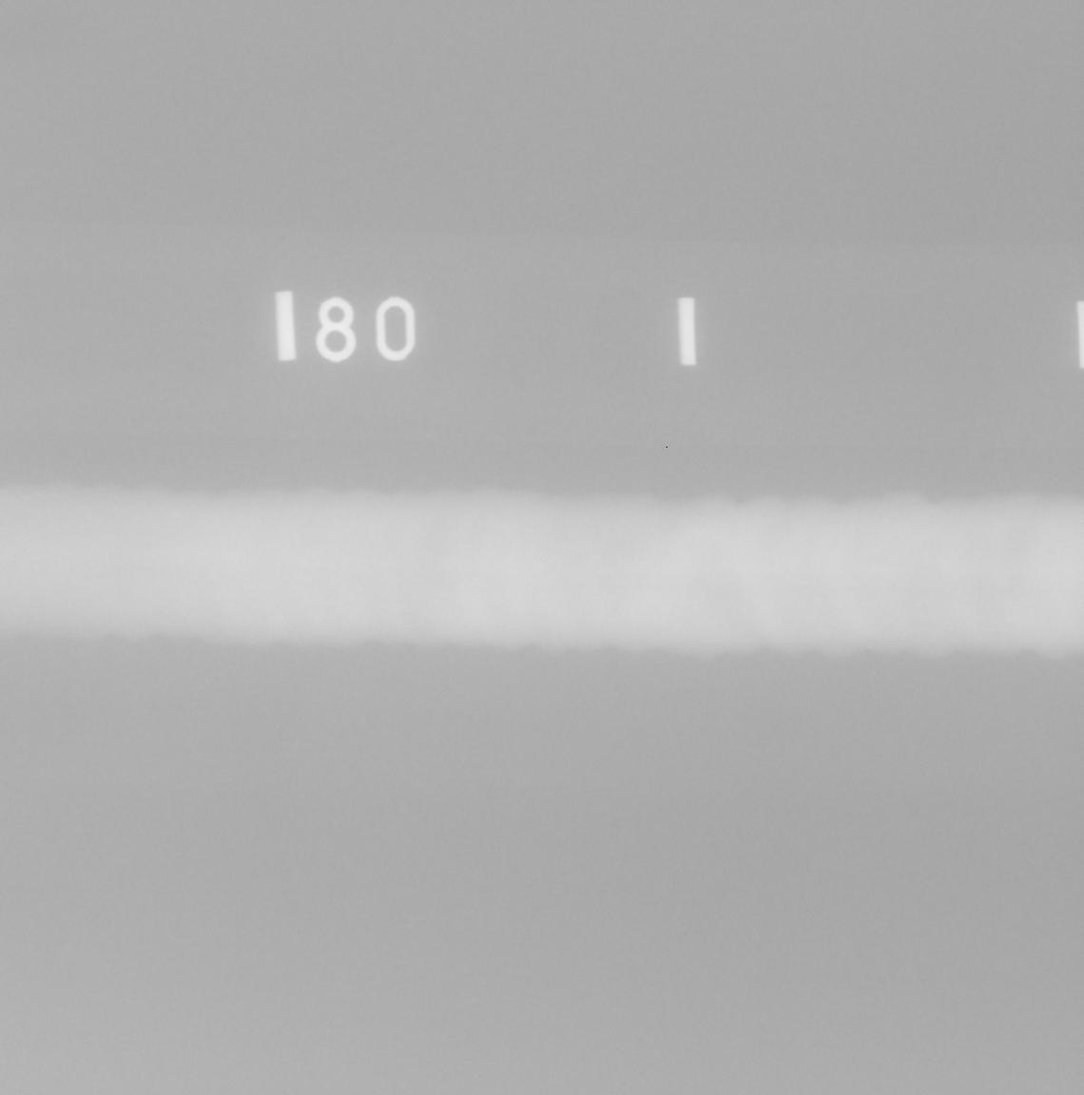Inclusion: (1045, 550, 1054, 554)
Pore/Porosity: (1032, 508, 1037, 513)
